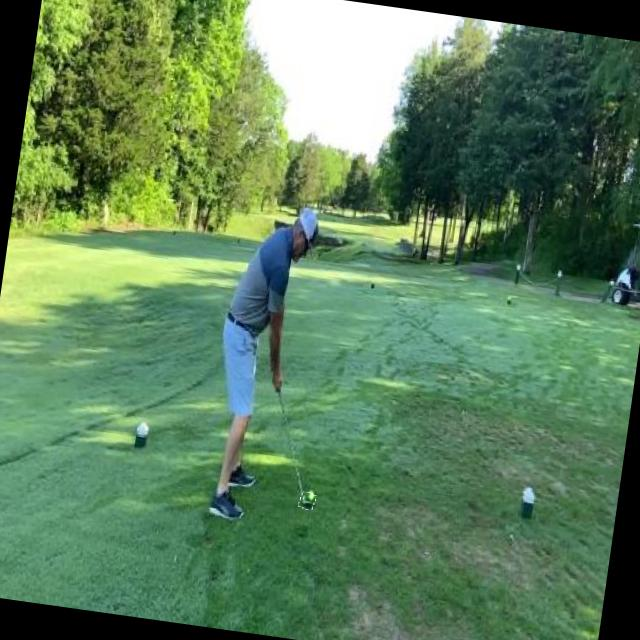club head: (298, 492, 316, 510)
